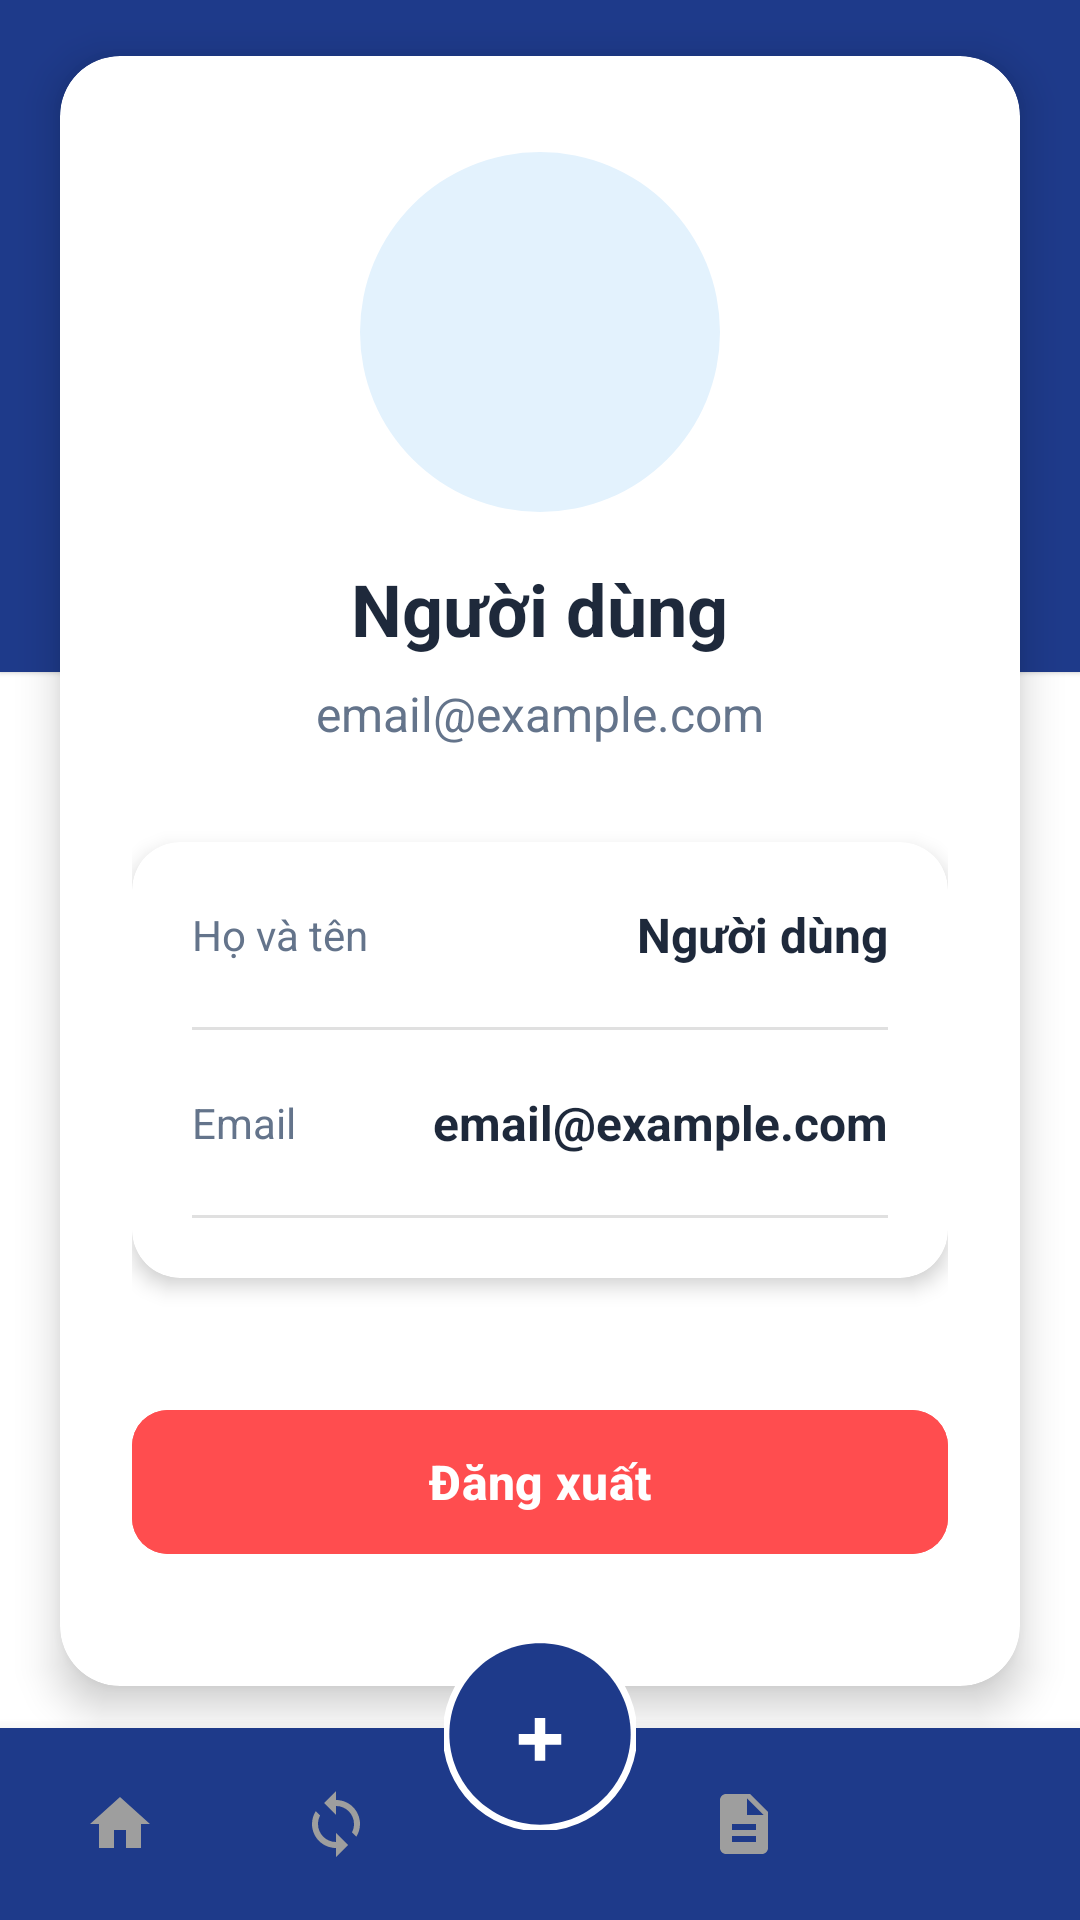

Named icons in this screenshot (1080×1920) and their centers, point (x, y):
Trang chủ: point (120, 1822)
